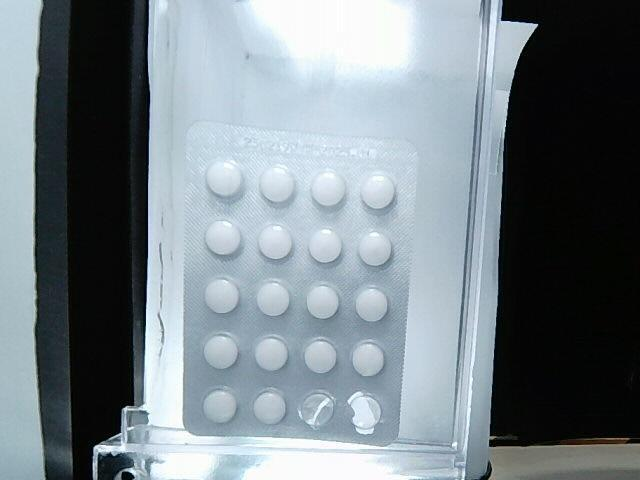Light Front: (185, 123, 417, 444)
No Pill Front: (348, 391, 381, 434), (299, 390, 335, 428)
Pill Front: (259, 164, 296, 203), (205, 161, 242, 197), (310, 170, 346, 206), (205, 220, 241, 255), (360, 174, 395, 209), (258, 224, 293, 259), (204, 334, 239, 369), (358, 231, 393, 265), (203, 389, 238, 423), (205, 278, 238, 314), (256, 280, 289, 315), (255, 336, 288, 371), (309, 229, 342, 263), (253, 389, 286, 423), (304, 339, 336, 374), (351, 341, 383, 376), (355, 288, 387, 322), (306, 285, 338, 318)
